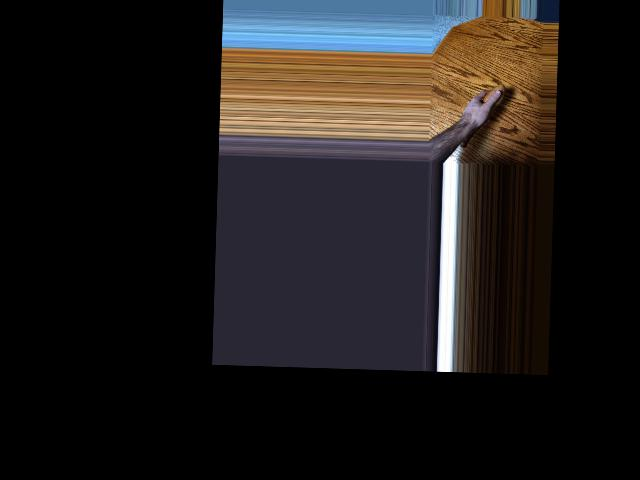sweet_potato: (457, 82, 505, 151)
